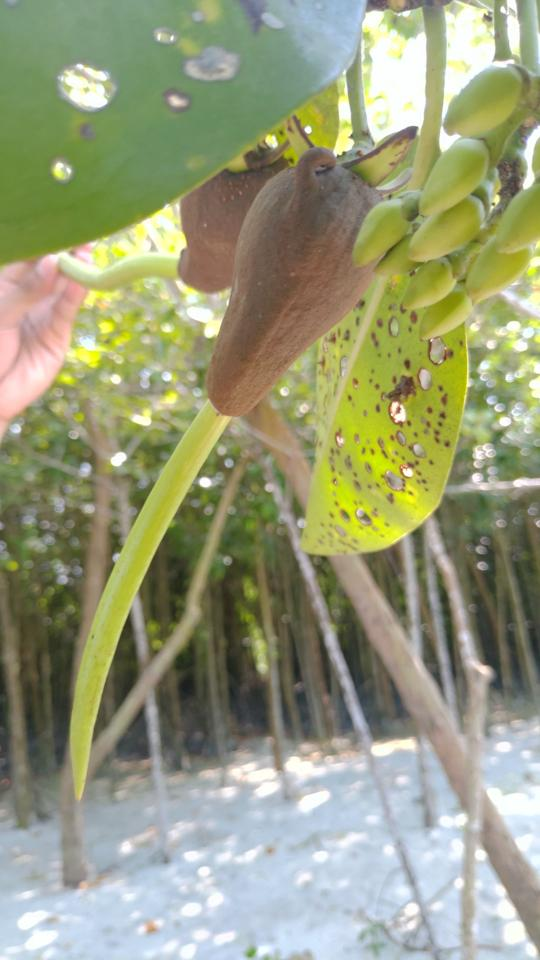mentah: (35, 119, 434, 818)
